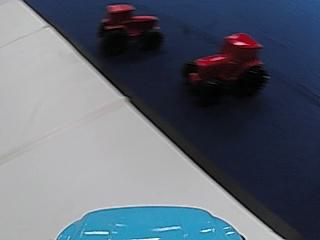Tracktor: (178, 30, 269, 99), (97, 2, 163, 52)
